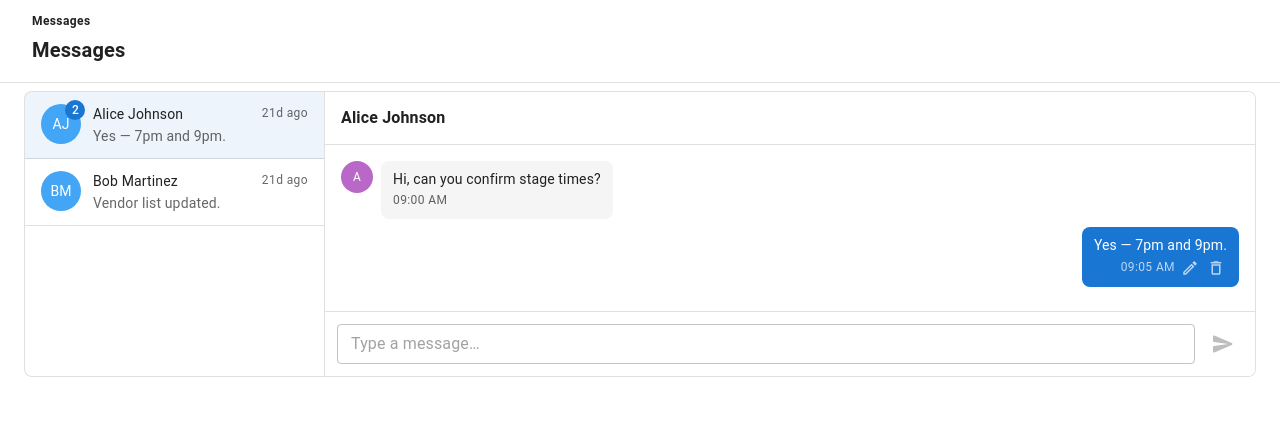
Test: MessagesInbox › edits an own message via the inline editor
Click the button named "Edit message msg-own" at {"x": 1190, "y": 268}, box top-left (1179, 257), bottom-right (1201, 279)
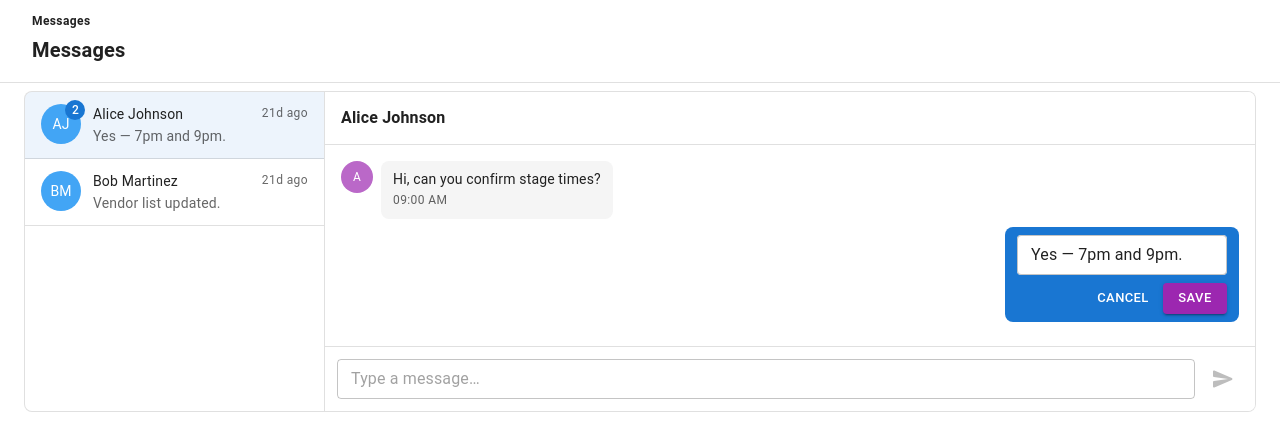
Replace the text in the text box named "Edit message input" with "Updated body." at {"x": 1122, "y": 255}, box top-left (1031, 243), bottom-right (1213, 266)
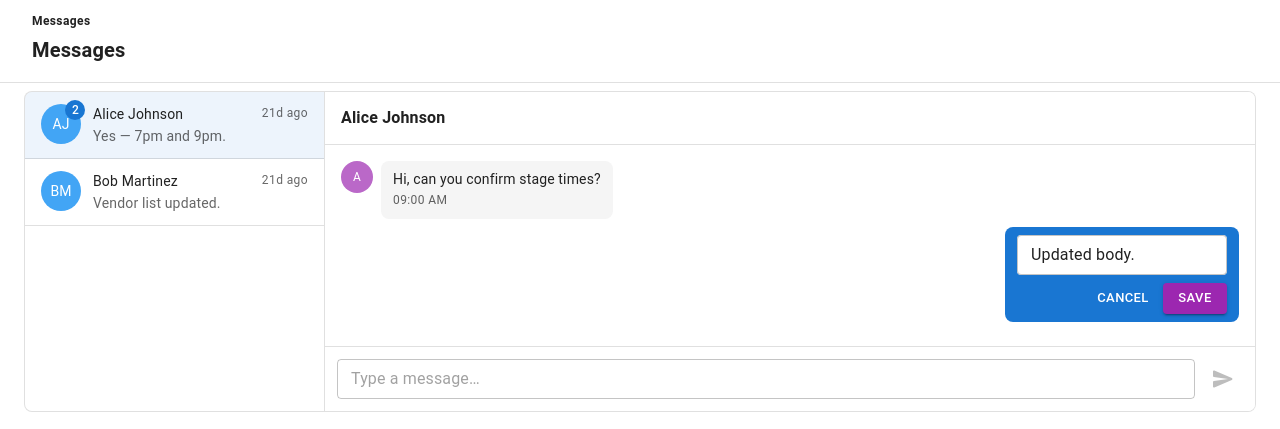
Click the button "Save" at {"x": 1195, "y": 298}, box top-left (1163, 283), bottom-right (1227, 314)
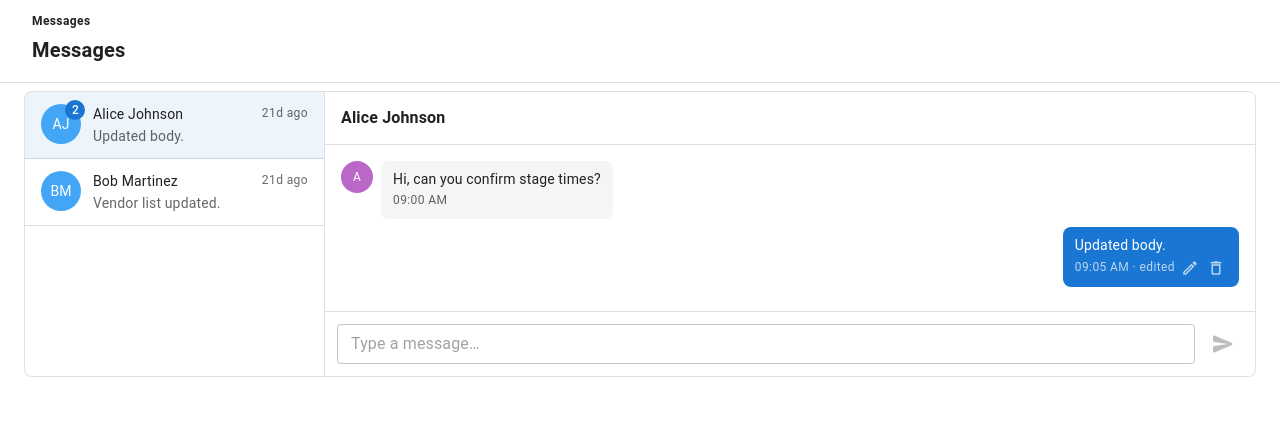
Expected: the 1st text "Updated body." is shown, top-left (93, 128), bottom-right (184, 144)
